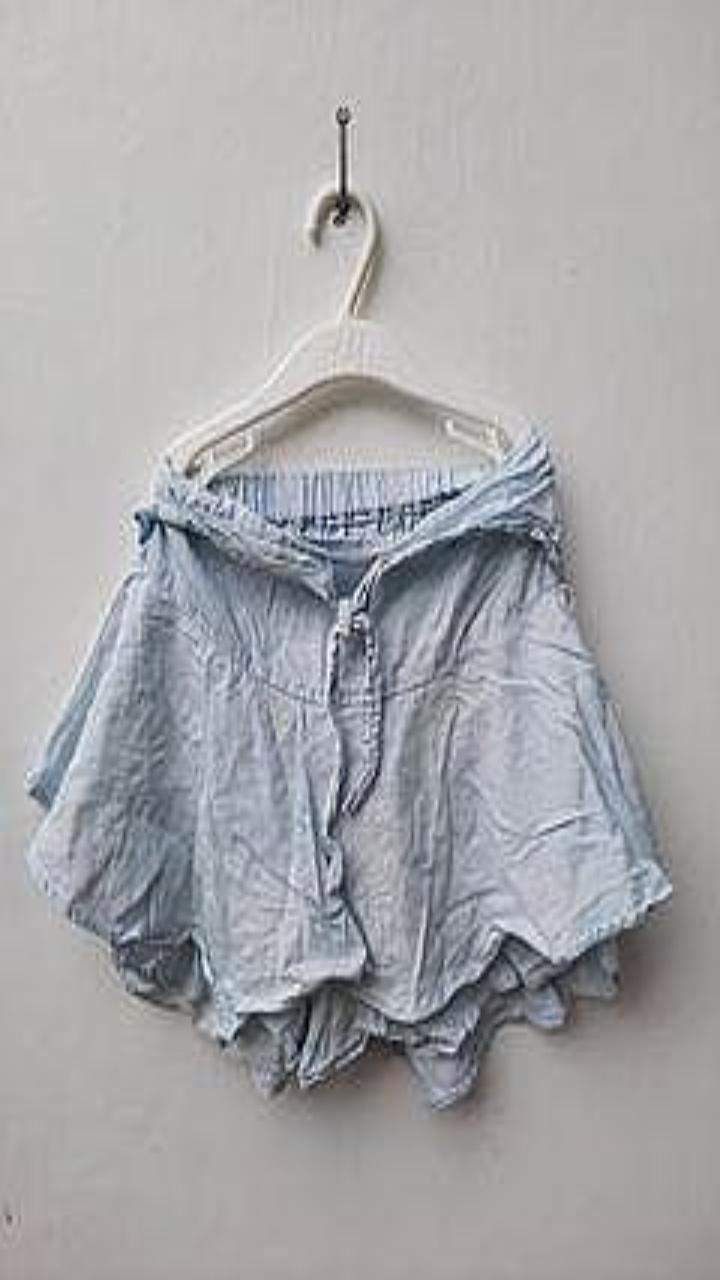Shorts: (26, 426, 671, 1106)
